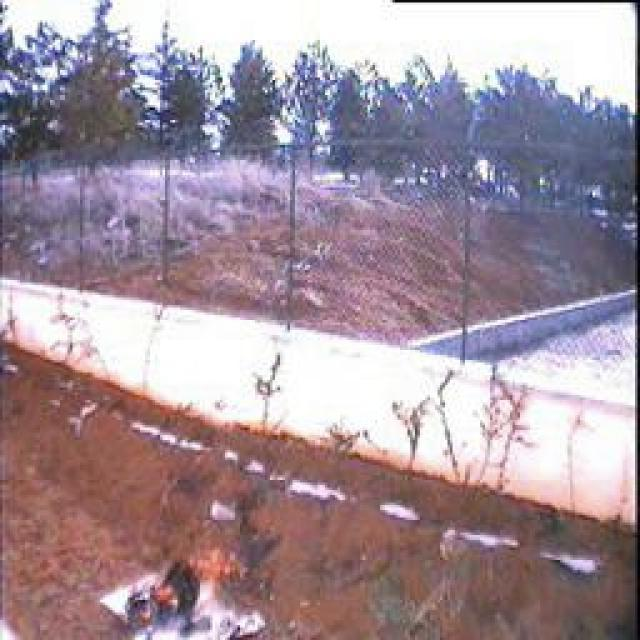Fire: (116, 543, 254, 630)
